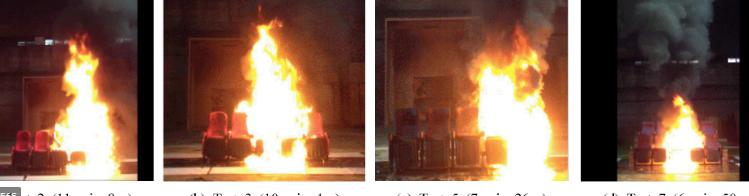fire: (235, 16, 313, 174), (54, 32, 121, 180), (479, 51, 556, 179), (662, 94, 706, 176)
